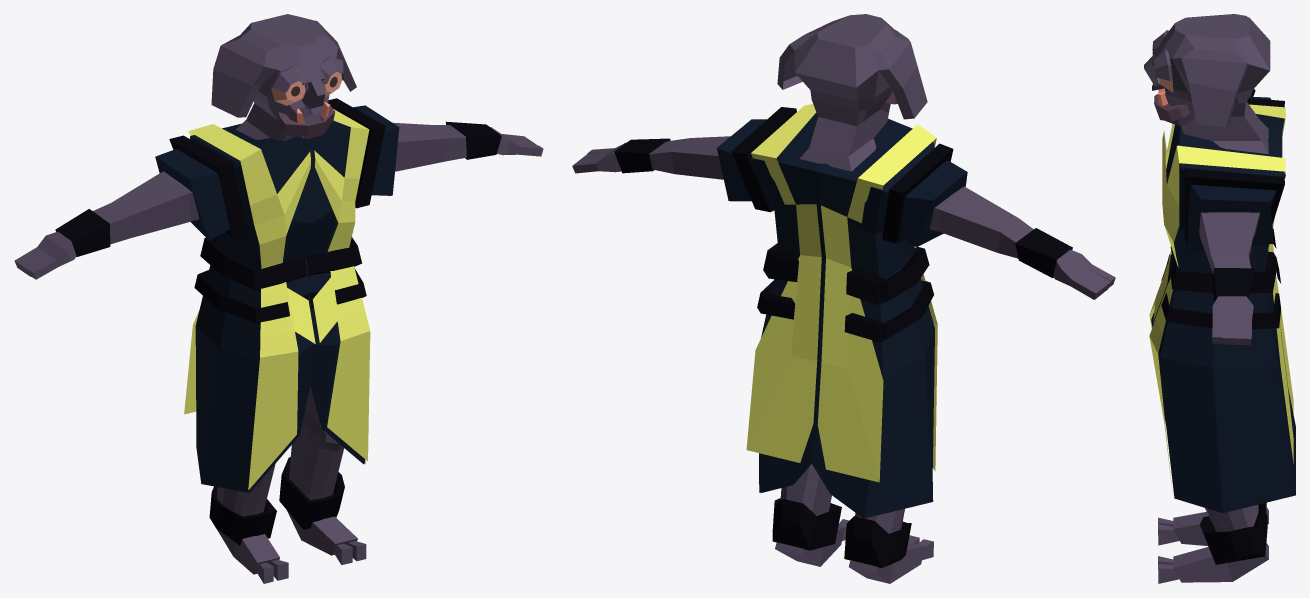
The model's file is PURPLE_PUZZ.fbx.
3 views of the same model, side by side, from view 1: azimuth 30°, elevation 25°; view 2: azimuth 150°, elevation 25°; view 3: azimuth 270°, elevation 25° (orthographic). The views are drawn at different scales.
Visible parts, largest first — view 1: Cube.027; view 2: Cube.027; view 3: Cube.027.
Boxes of the visible parts, x1,y1,x2,y2 form: Cube.027: [14, 14, 543, 583]; Cube.027: [572, 14, 1115, 583]; Cube.027: [1144, 14, 1295, 583].
Bounding box in the file's own units: 758 × 740 × 192.
